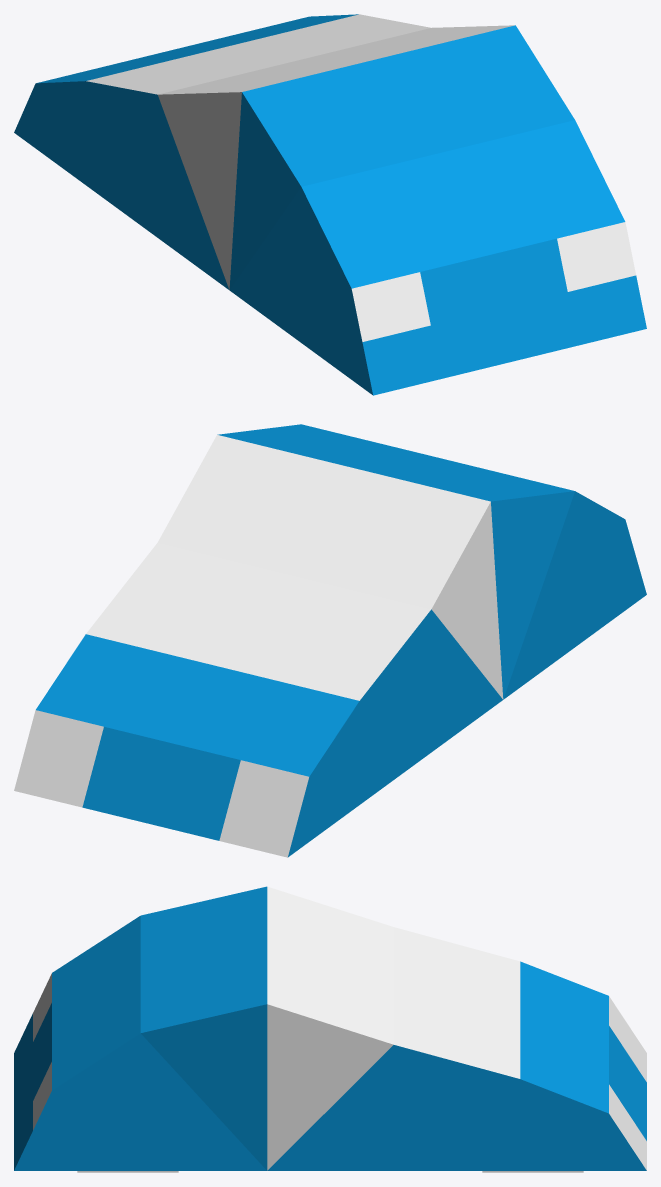
3 renders of one model, top to bottom at view 1: azimuth 30°, elevation 25°; view 2: azimuth 150°, elevation 25°; view 3: azimuth 270°, elevation 25°, orthographic. The views are drawn at different scales.
Parts seen in each view (by area): view 1: mesh_1837334045; view 2: mesh_1837334045; view 3: mesh_1837334045.
Part boxes in pixels (x1,y1,x2,y2): mesh_1837334045: (14,14,646,395); mesh_1837334045: (14,424,646,857); mesh_1837334045: (14,886,646,1170).
Bounding box in the file's own units: 23 × 17 × 50.
